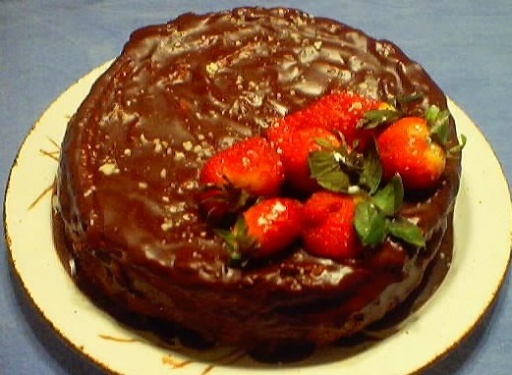background: (40, 3, 373, 214)
